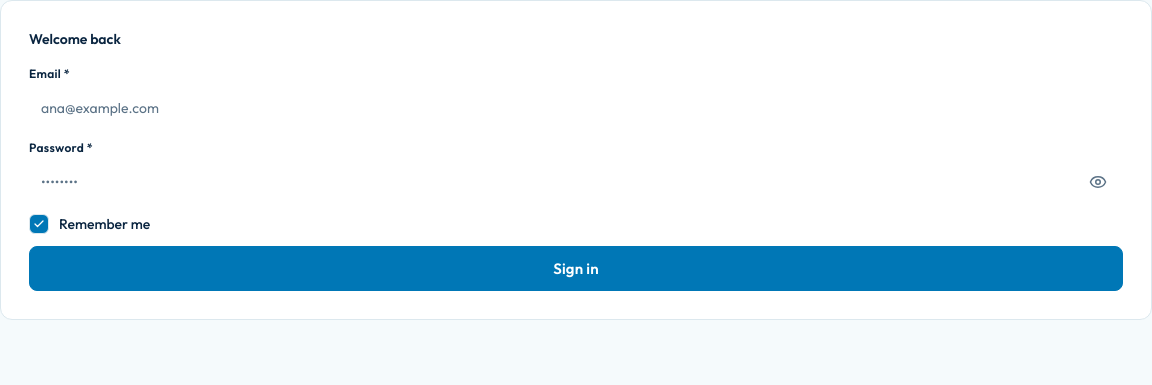
Test: SigninForm › blocks invalid email with inline guidance (courtesy validation)
This screenshot has width=1152, height=385.
Type "bad@" into the field with placeholder "ana@example.com" at coordinates (576, 108), box 41,88 -> 1111,128
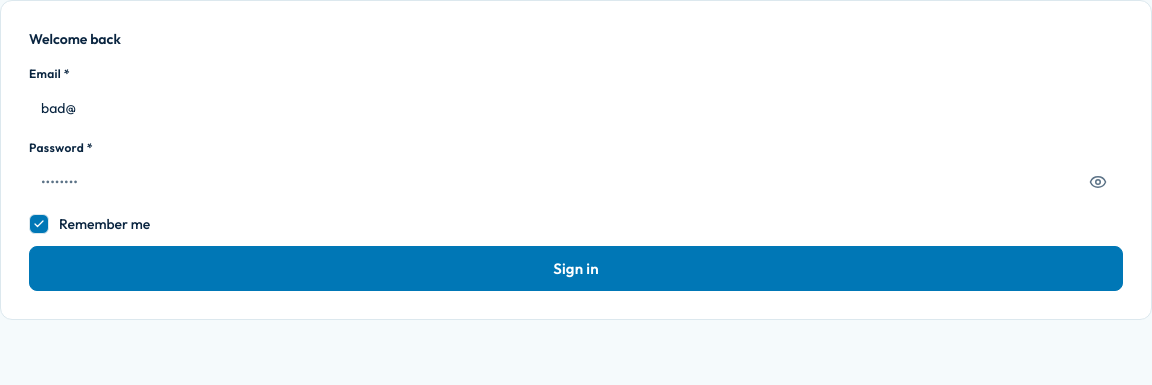
Submit the form, box 29,66 -> 1123,291
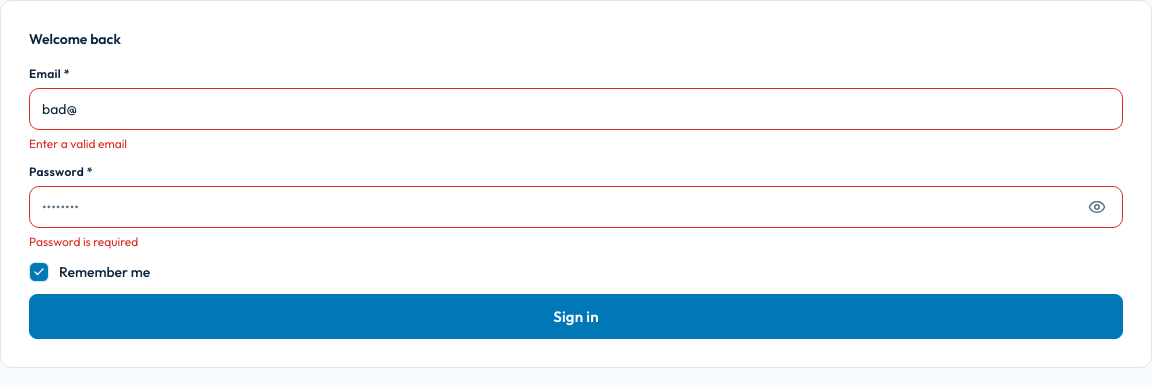
Expected: the text "Enter a valid email" is shown, 29,136 -> 127,151
